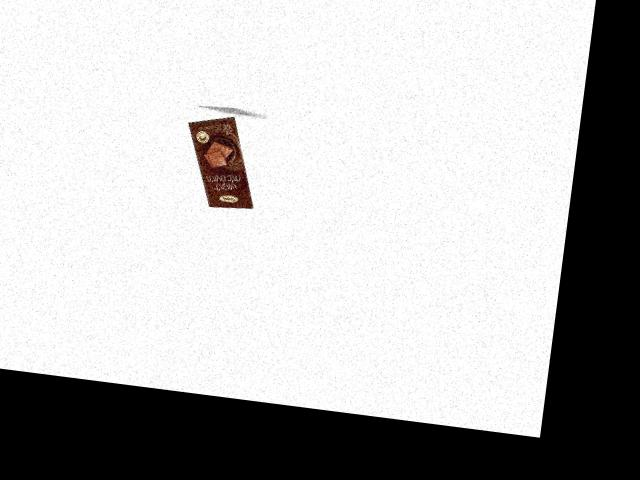chocolate: (175, 106, 266, 214)
